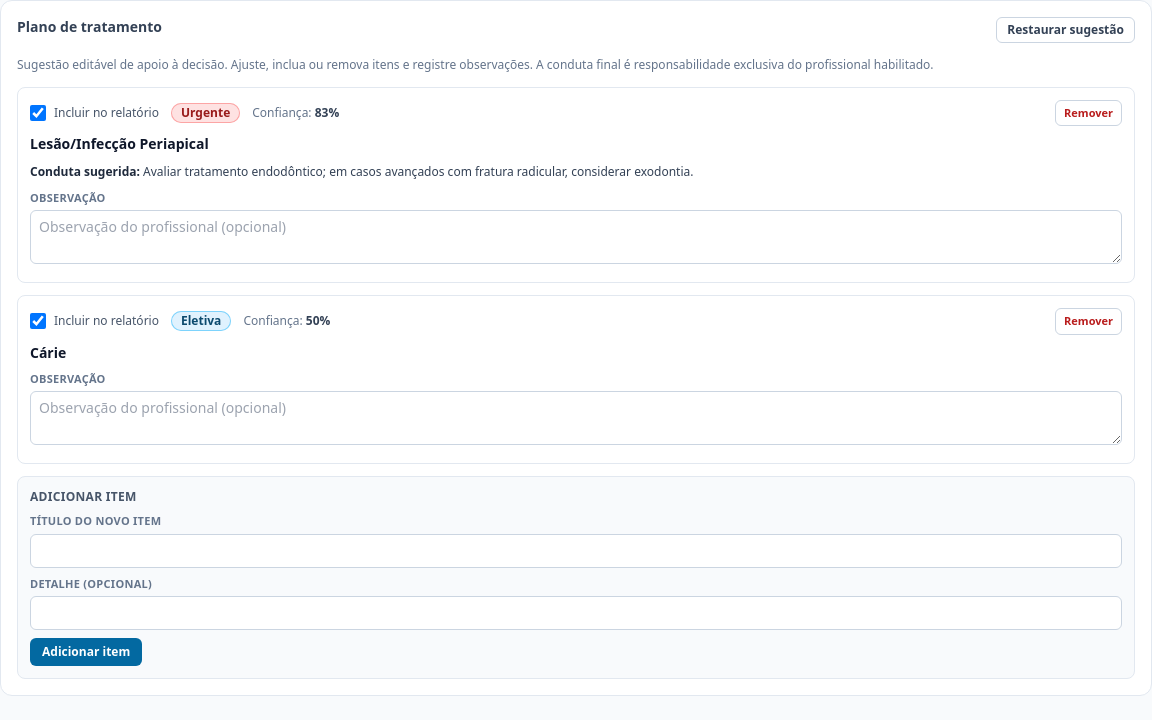
Scenario: TreatmentPlan › remove um item do plano
Click the button with aria-label "Remover item Lesão/Infecção Periapical".
click(1089, 113)  # box [1055,100,1122,126]
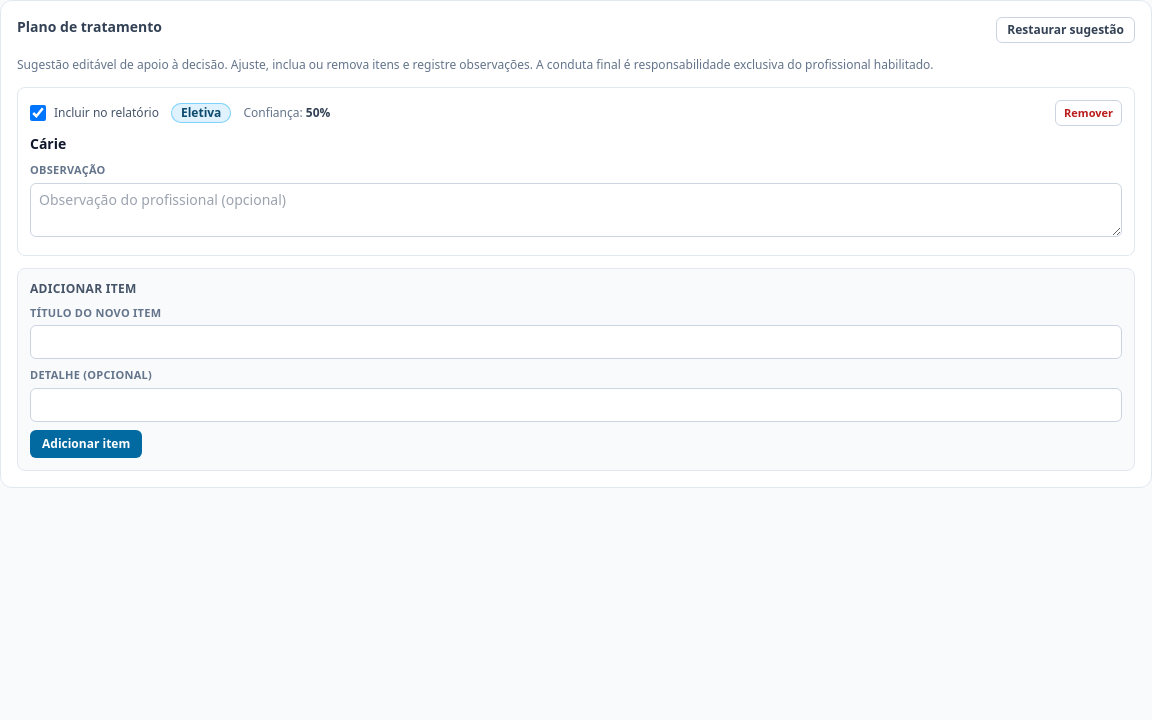
Check: the text "Cárie" is shown, box [30,134,66,153]
Check: the text "Lesão/Infecção Periapical" is gone
